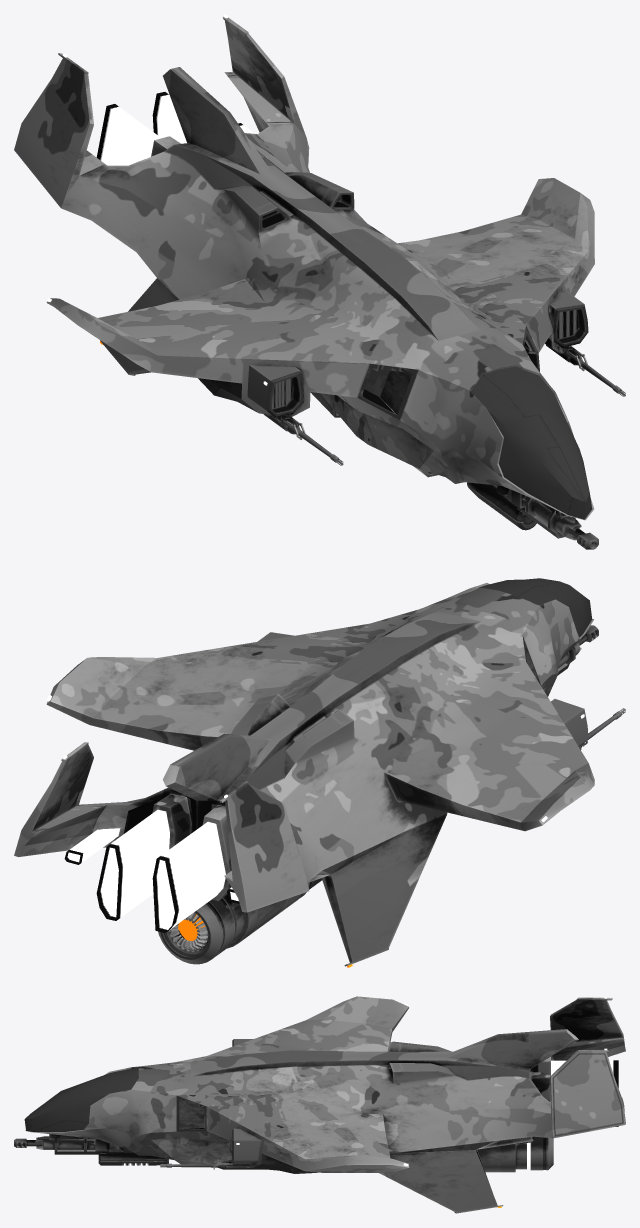
File: FighterJet.fbx
The picture shows the model from 3 angles, top to bottom: view 1: azimuth 30°, elevation 25°; view 2: azimuth 150°, elevation 25°; view 3: azimuth 270°, elevation 25°; orthographic projection. The views are drawn at different scales.
Parts seen in each view (by area): view 1: FighterJet; view 2: FighterJet; view 3: FighterJet.
Part boxes in pixels (x1,y1,x2,y2): FighterJet: (14, 14, 625, 549); FighterJet: (14, 578, 625, 967); FighterJet: (14, 996, 625, 1213).
Size of the model in its own units: 5.04 by 2.13 by 7.89.
Materials: 2 (2 with a texture image).
